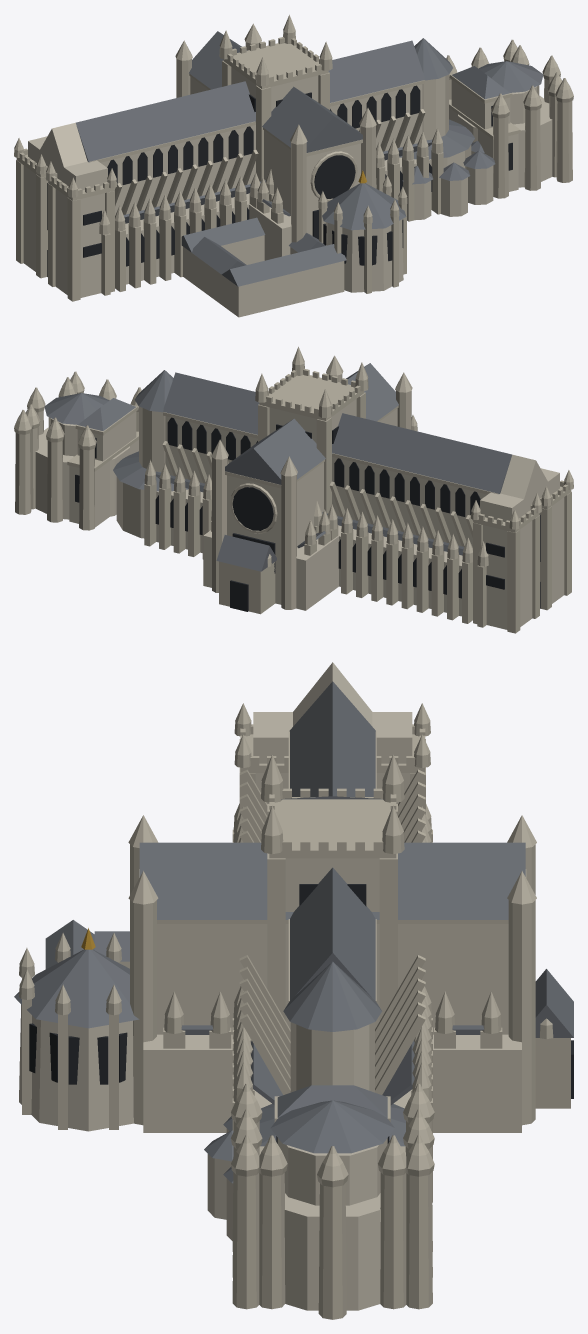
The model's file is westminster_abbey_notowers.glb.
3 renders of one model, top to bottom at view 1: azimuth 30°, elevation 25°; view 2: azimuth 150°, elevation 25°; view 3: azimuth 270°, elevation 25°, orthographic. The views are drawn at different scales.
Visible parts, largest first — view 1: westminster_abbey_notowers; view 2: westminster_abbey_notowers; view 3: westminster_abbey_notowers.
Part boxes in pixels (box(x1,y1,x2,y2)): westminster_abbey_notowers: box(14, 14, 573, 317); westminster_abbey_notowers: box(14, 346, 573, 633); westminster_abbey_notowers: box(14, 662, 573, 1319).
Size of the model in its own units: 162 by 56.4 by 91.7.
